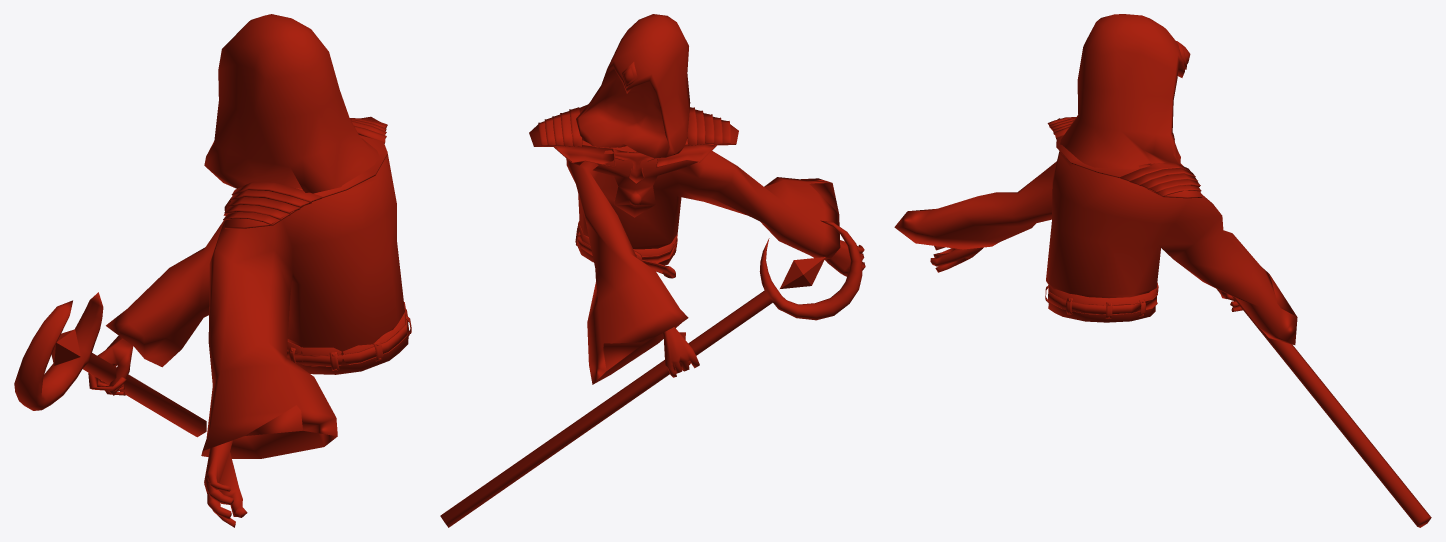
Rendered from top_000150.obj.
3 views of the same model, side by side, from view 1: azimuth 30°, elevation 25°; view 2: azimuth 150°, elevation 25°; view 3: azimuth 270°, elevation 25° (orthographic). The views are drawn at different scales.
Parts seen in each view (by area): view 1: LowPoly_Warlock.000_Plane.005; view 2: LowPoly_Warlock.000_Plane.005; view 3: LowPoly_Warlock.000_Plane.005.
Part boxes in pixels (<box>): LowPoly_Warlock.000_Plane.005: <box>14,14,411,527</box>; LowPoly_Warlock.000_Plane.005: <box>440,14,865,527</box>; LowPoly_Warlock.000_Plane.005: <box>894,14,1431,527</box>.
Bounding box in the file's own units: 1.32 × 1.81 × 1.86.
